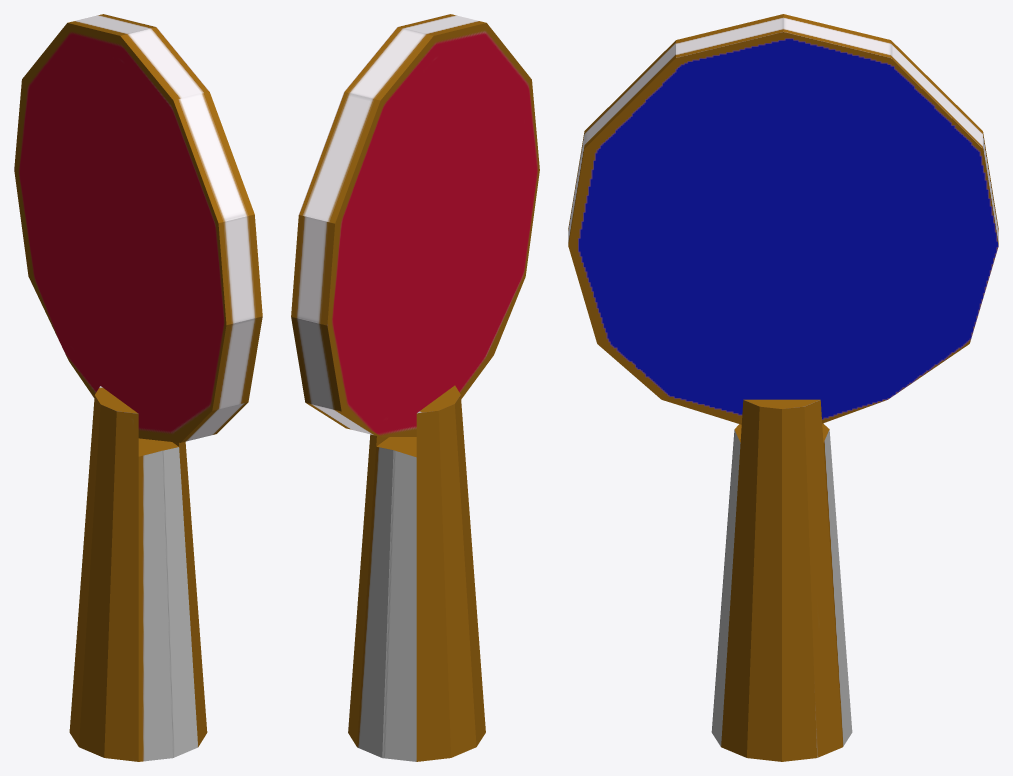
Rendered from Pong.fbx.
3 renders of one model, left to right at view 1: azimuth 30°, elevation 25°; view 2: azimuth 150°, elevation 25°; view 3: azimuth 270°, elevation 25°, orthographic.
Parts seen in each view (by area): view 1: Paddle, Handle; view 2: Paddle, Handle; view 3: Paddle, Handle.
Part boxes in pixels (x1,y1,x2,y2): Paddle: (14, 14, 262, 442); Handle: (69, 386, 207, 761); Paddle: (291, 14, 539, 437); Handle: (348, 385, 485, 761); Paddle: (568, 14, 998, 424); Handle: (711, 399, 852, 761).
Size of the model in its own units: 255 by 1433 by 787.
